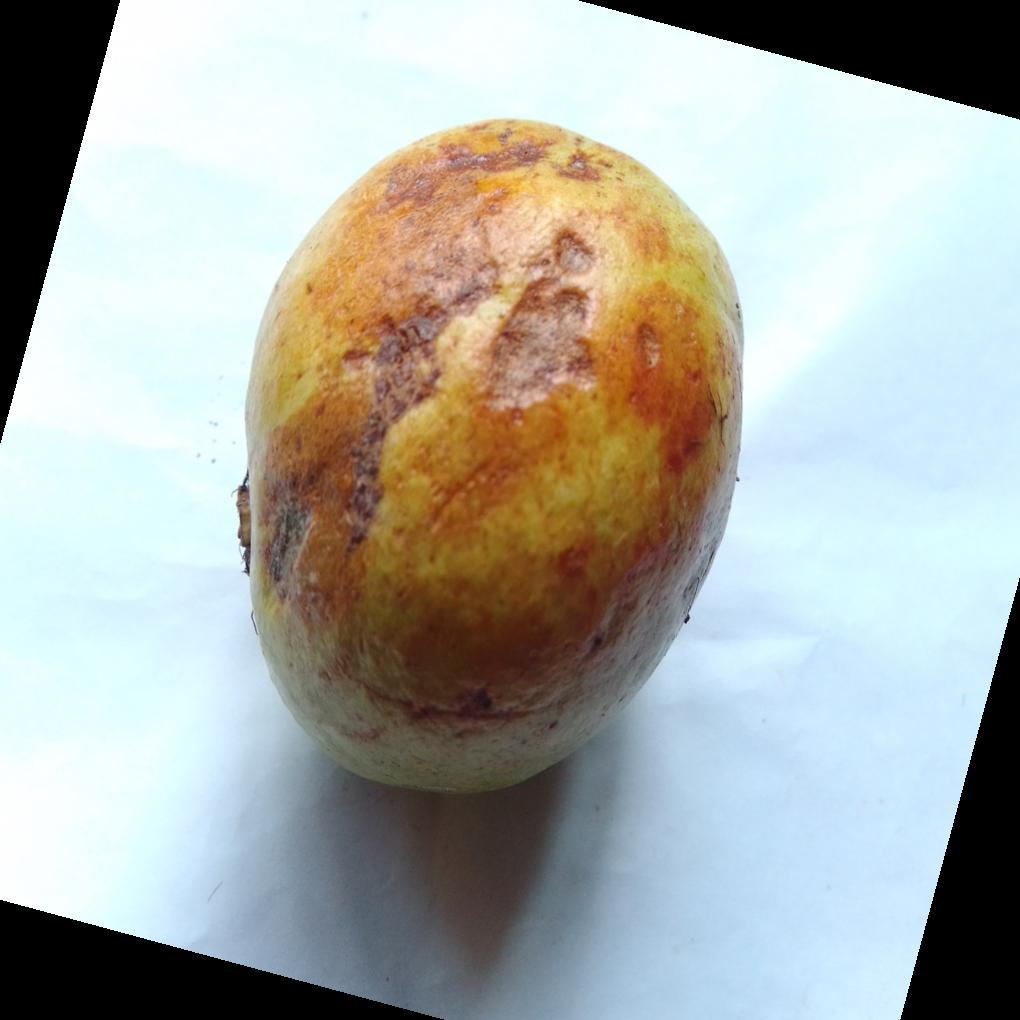FreshOrange: (236, 120, 744, 800)
